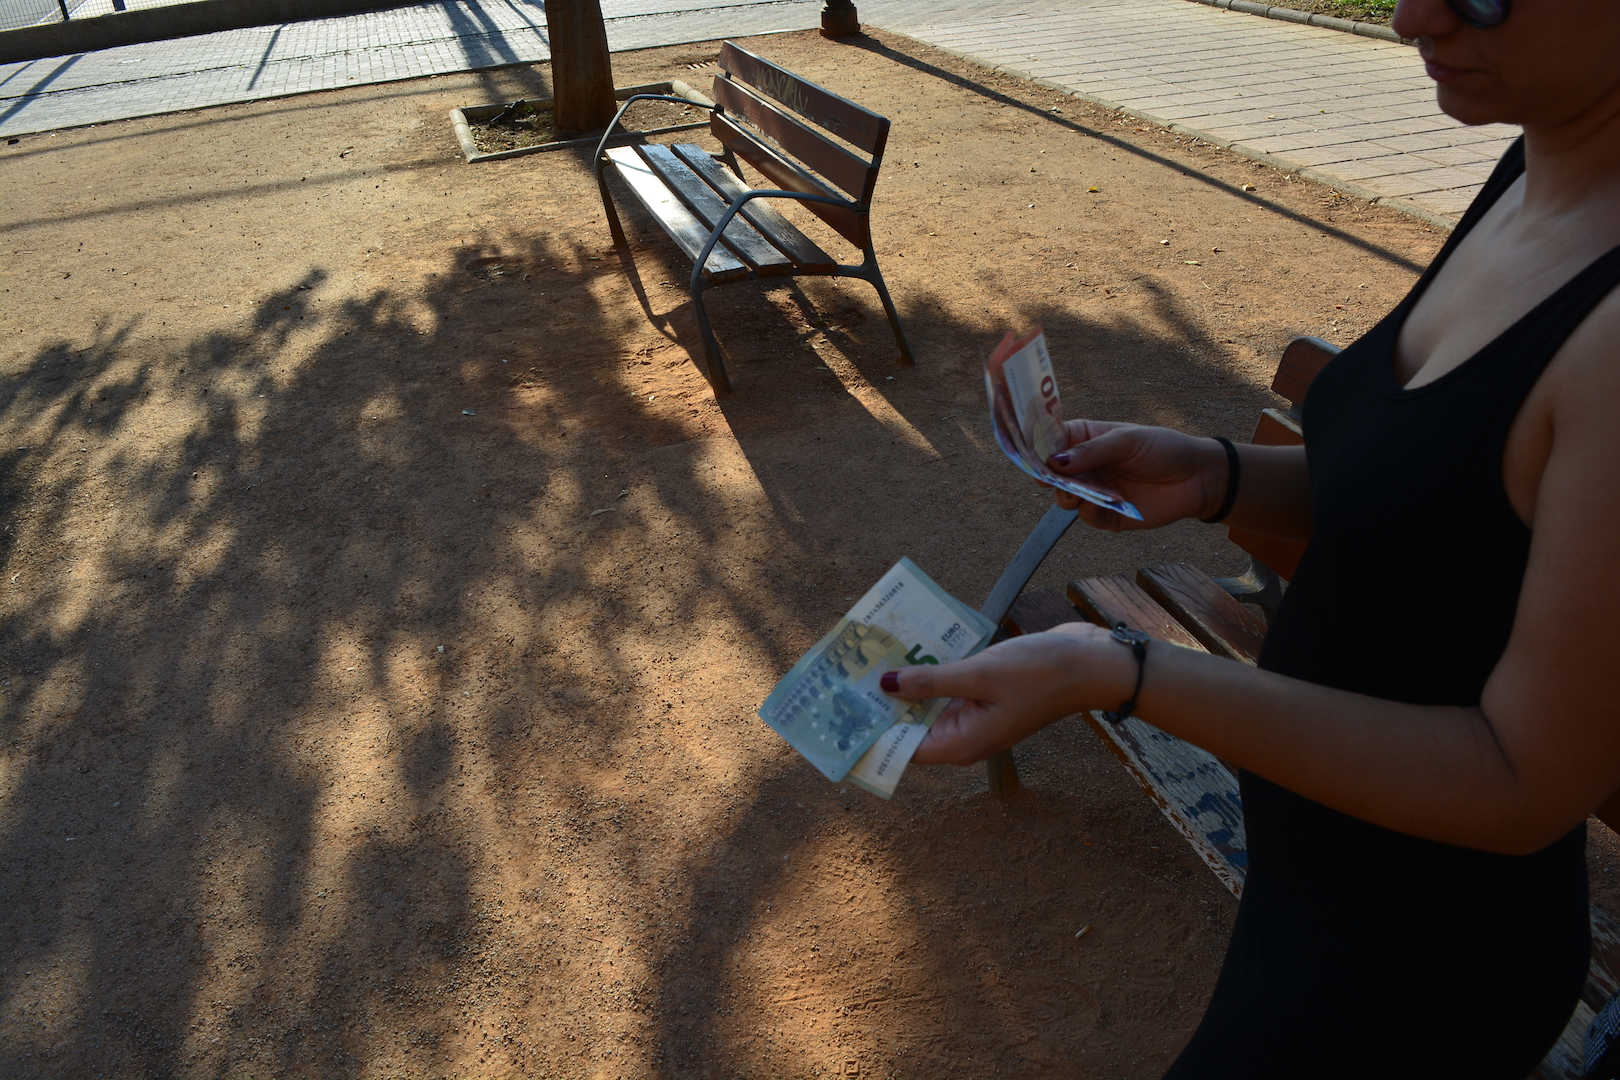billete: (752, 554, 1000, 803), (982, 325, 1146, 529)
